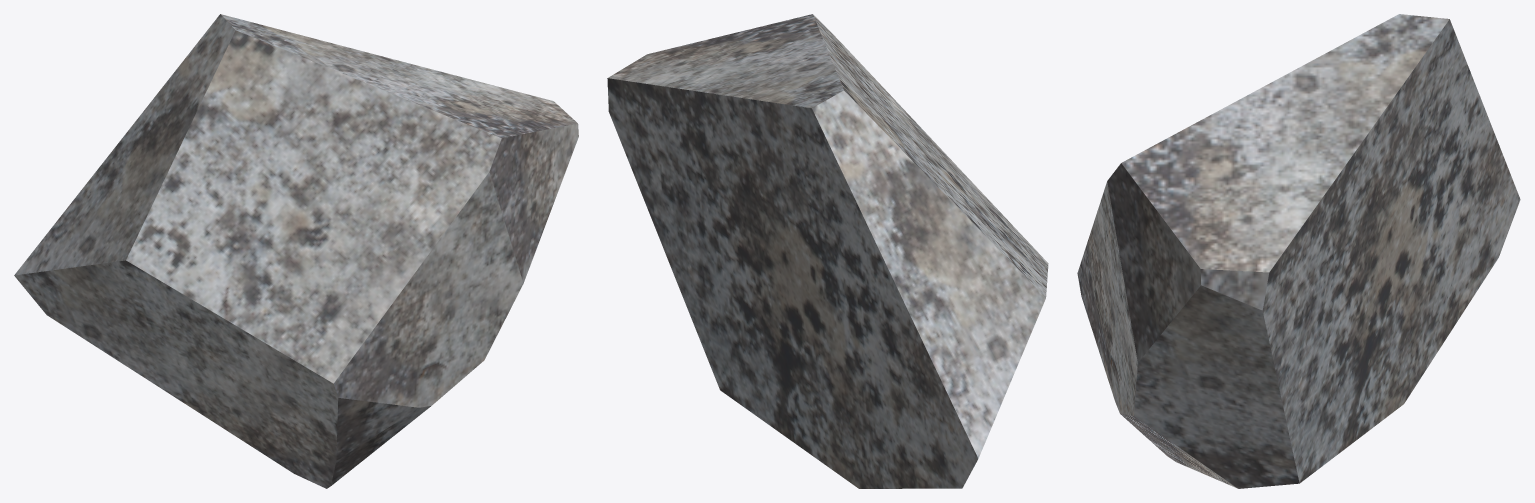
The model's file is Asteroid_Large_001_02_009_03_039.fbx.
The picture shows the model from 3 angles, left to right: view 1: azimuth 30°, elevation 25°; view 2: azimuth 150°, elevation 25°; view 3: azimuth 270°, elevation 25°; orthographic projection. The views are drawn at different scales.
Parts seen in each view (by area): view 1: Asteroid_Large_001_02_009_03_039; view 2: Asteroid_Large_001_02_009_03_039; view 3: Asteroid_Large_001_02_009_03_039.
Boxes of the visible parts, x1,y1,x2,y2 form: Asteroid_Large_001_02_009_03_039: [14, 14, 578, 488]; Asteroid_Large_001_02_009_03_039: [607, 14, 1048, 488]; Asteroid_Large_001_02_009_03_039: [1077, 14, 1520, 488].
Size of the model in its own units: 9.77 by 8.34 by 7.43.
